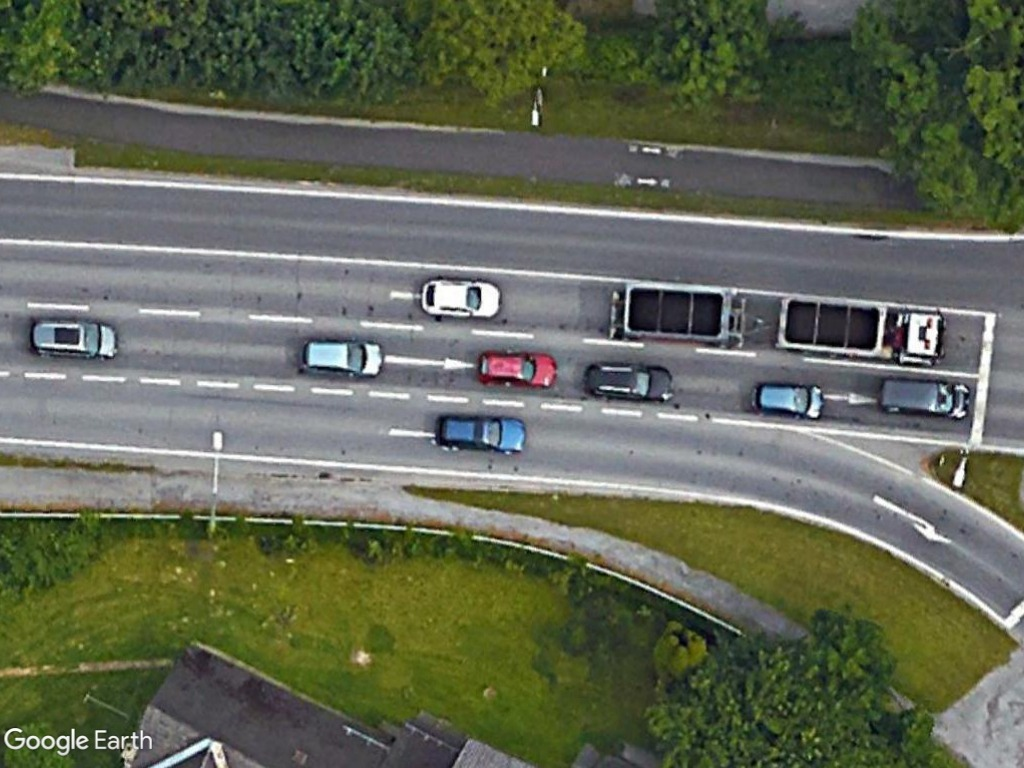car: (873, 372, 980, 426), (429, 407, 534, 458), (578, 354, 677, 407), (23, 312, 121, 365), (287, 335, 390, 384), (413, 273, 508, 322), (473, 344, 563, 392), (746, 376, 829, 421)
